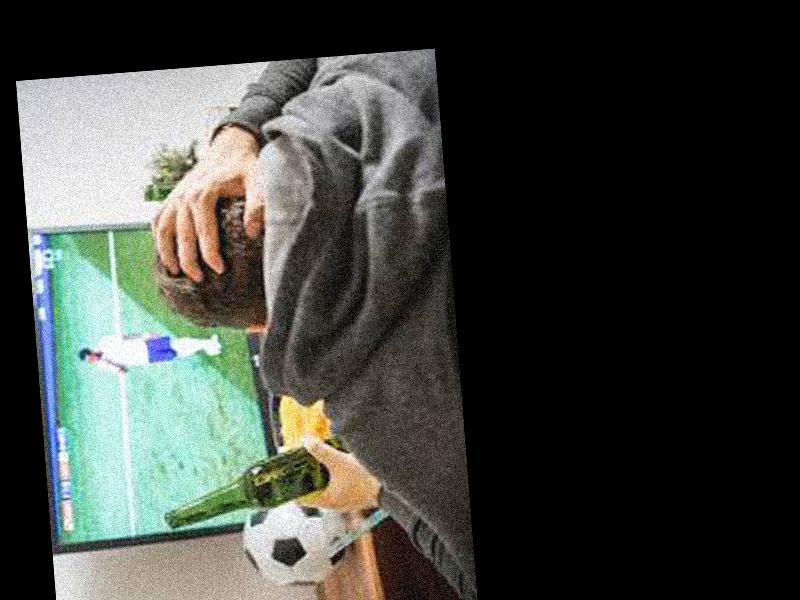Beer: (160, 441, 358, 529)
